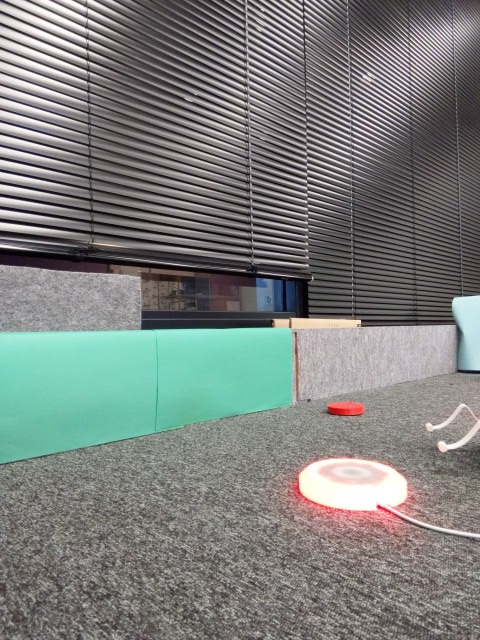r: (297, 454, 410, 514)
